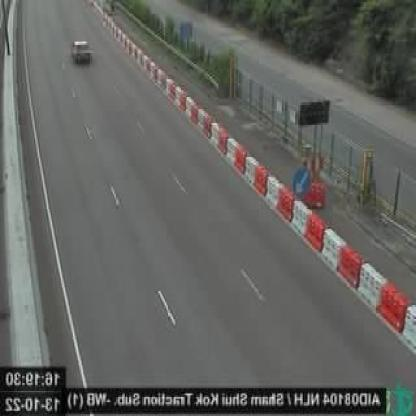Car: (71, 38, 94, 67)
